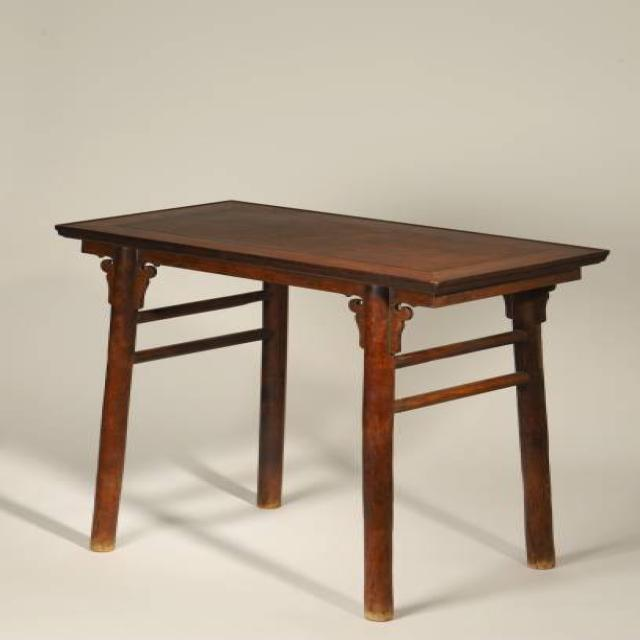table: (54, 198, 610, 622)
